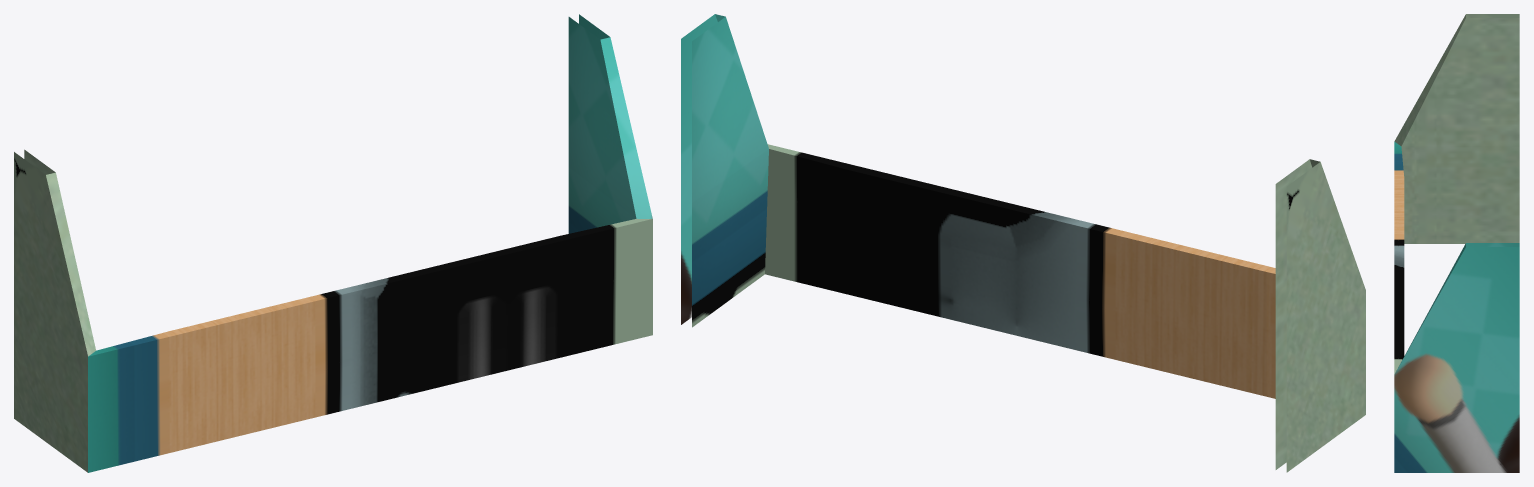
The model's file is BL_Pin_Resetter.fbx.
The picture shows the model from 3 angles, left to right: view 1: azimuth 30°, elevation 25°; view 2: azimuth 150°, elevation 25°; view 3: azimuth 270°, elevation 25°; orthographic projection. The views are drawn at different scales.
Parts seen in each view (by area): view 1: Pin_Resetter; view 2: Pin_Resetter; view 3: Pin_Resetter.
Part boxes in pixels (x1,y1,x2,y2): Pin_Resetter: (14, 14, 652, 472); Pin_Resetter: (681, 14, 1365, 472); Pin_Resetter: (1394, 14, 1519, 472).
Size of the model in its own units: 280 by 127 by 63.57.
